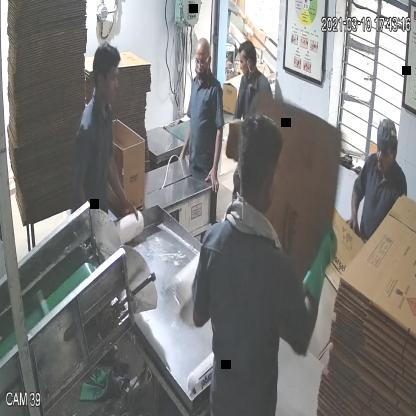glove: (299, 227, 346, 314)
no_glove: (104, 142, 145, 227), (203, 120, 227, 199), (347, 180, 370, 250)
